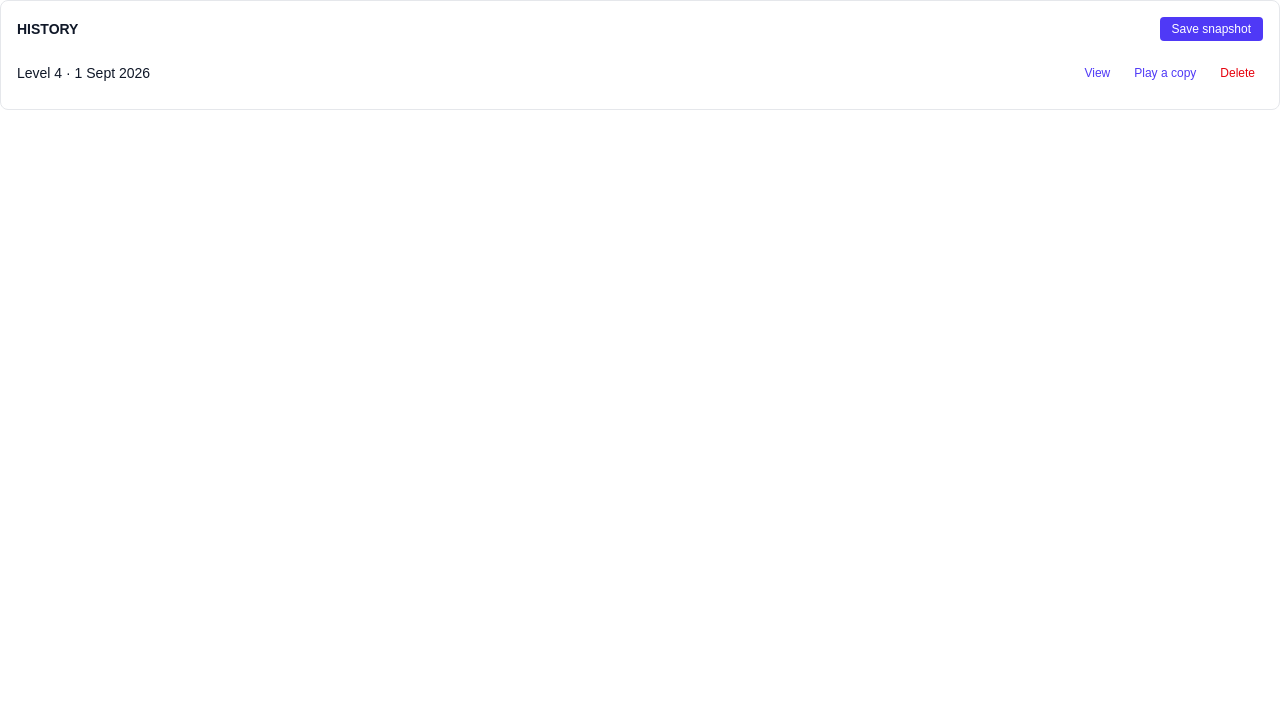
Test: CharacterHistorySection (VEG-644) › save snapshot › closes the dialog on Cancel without posting
Check: the text "Level 4 · 1 Sept 2026" is shown, box [17,63,150,83]
Click the button "Save snapshot".
click(1211, 29)  # box [1160,17,1263,41]
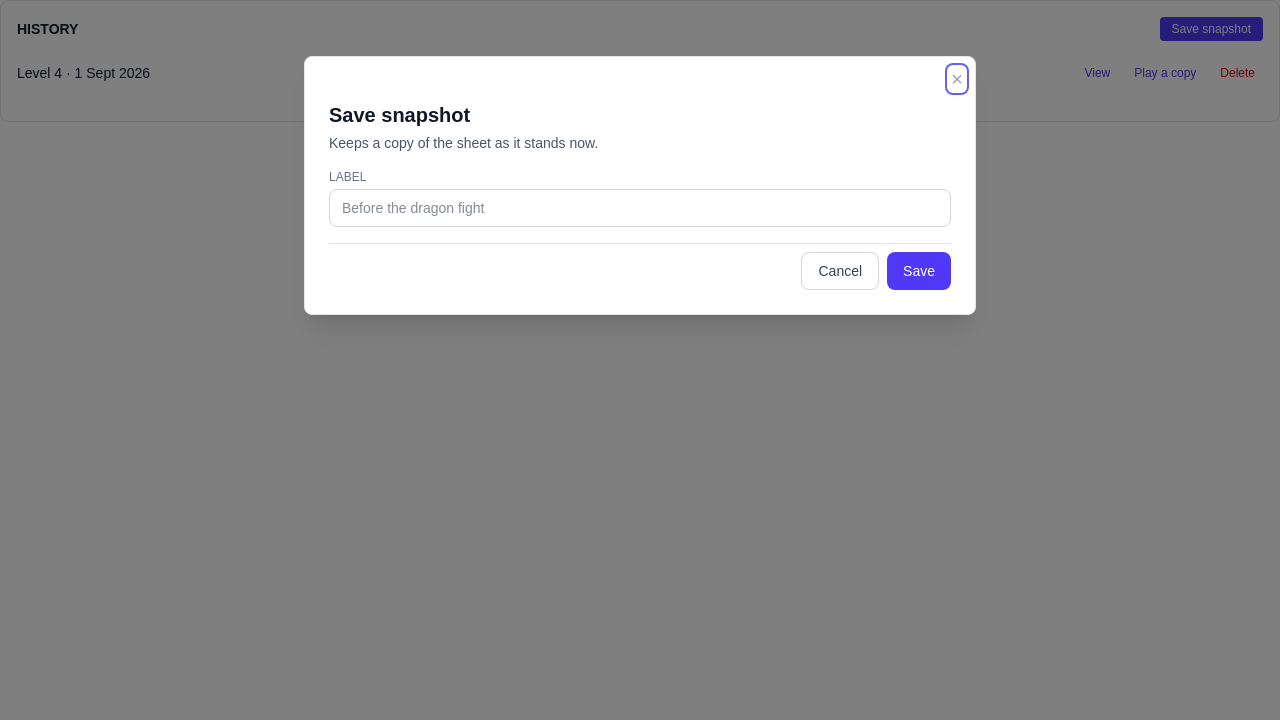
Click the button "Cancel".
click(840, 271)  # box [802,252,879,290]
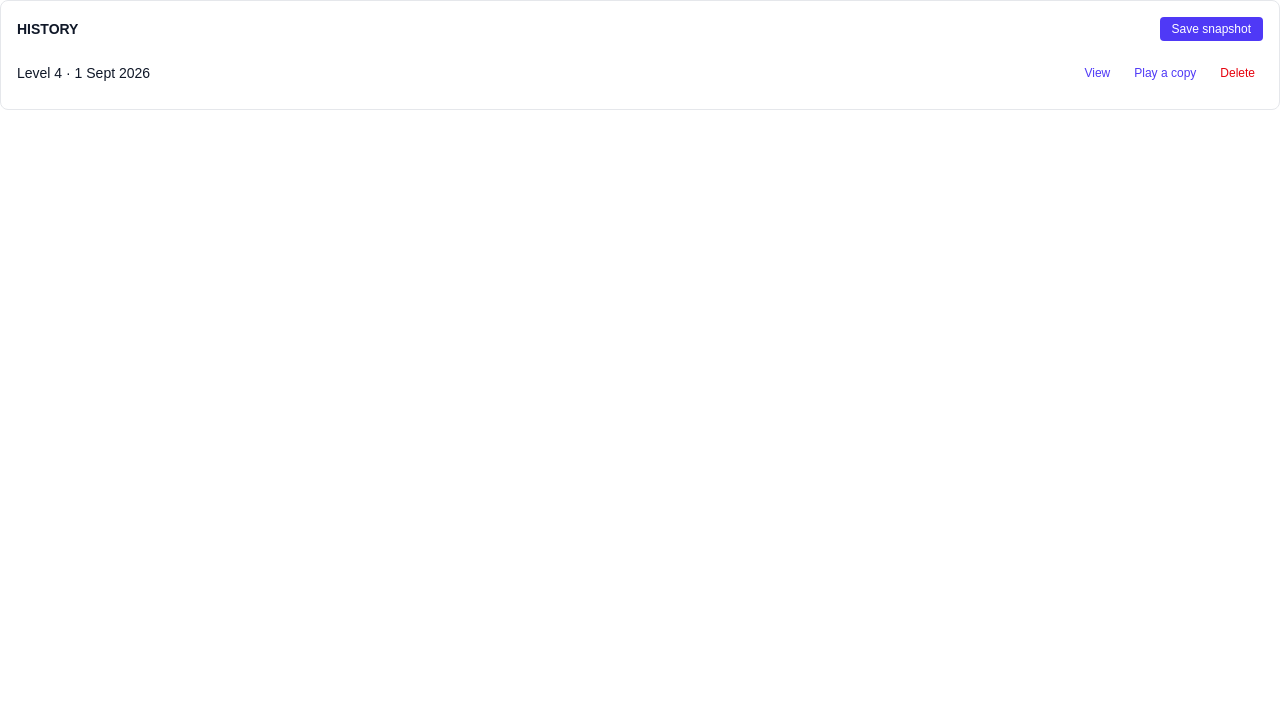
Check: the element with test id "save-snapshot-dialog" is gone
